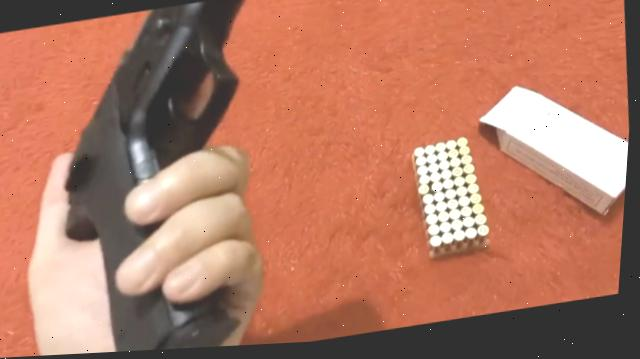pistol: (31, 0, 292, 357)
